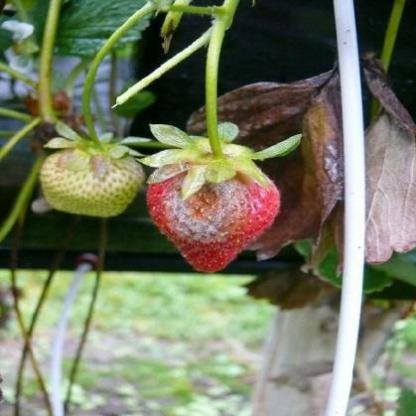Strawberry_Powdery_Mildew_Fruit: (146, 160, 263, 251)
